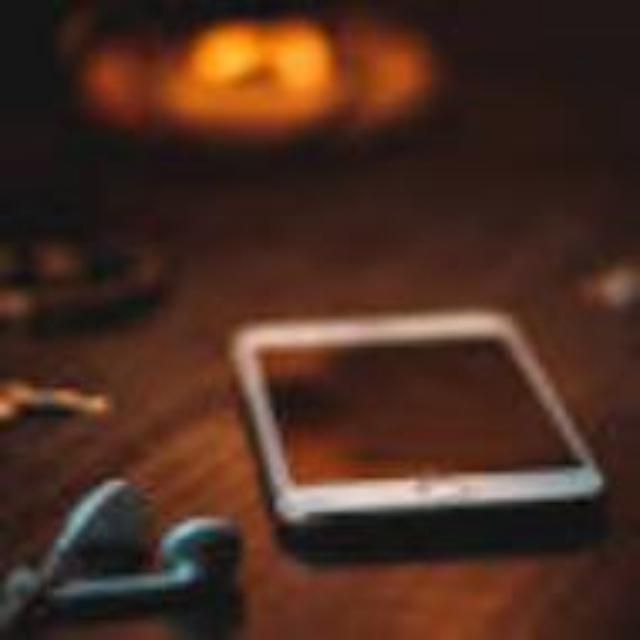phone: (205, 310, 615, 544)
